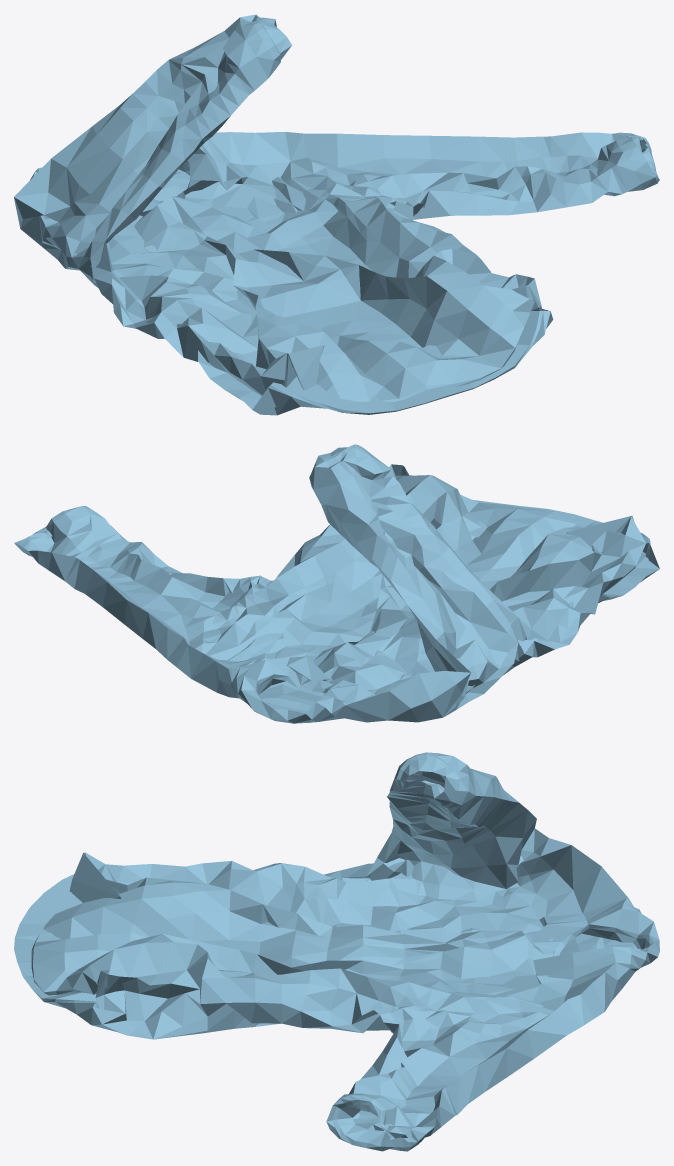
Rendered from frame_17.glb.
The picture shows the model from 3 angles, top to bottom: view 1: azimuth 30°, elevation 25°; view 2: azimuth 150°, elevation 25°; view 3: azimuth 270°, elevation 25°; orthographic projection. The views are drawn at different scales.
Parts seen in each view (by area): view 1: frame_17.obj; view 2: frame_17.obj; view 3: frame_17.obj.
Part boxes in pixels (x1,y1,x2,y2): frame_17.obj: [14, 14, 659, 415]; frame_17.obj: [14, 444, 659, 723]; frame_17.obj: [14, 752, 659, 1151].
Bounding box in the file's own units: 1.41 × 0.5704 × 1.39.
